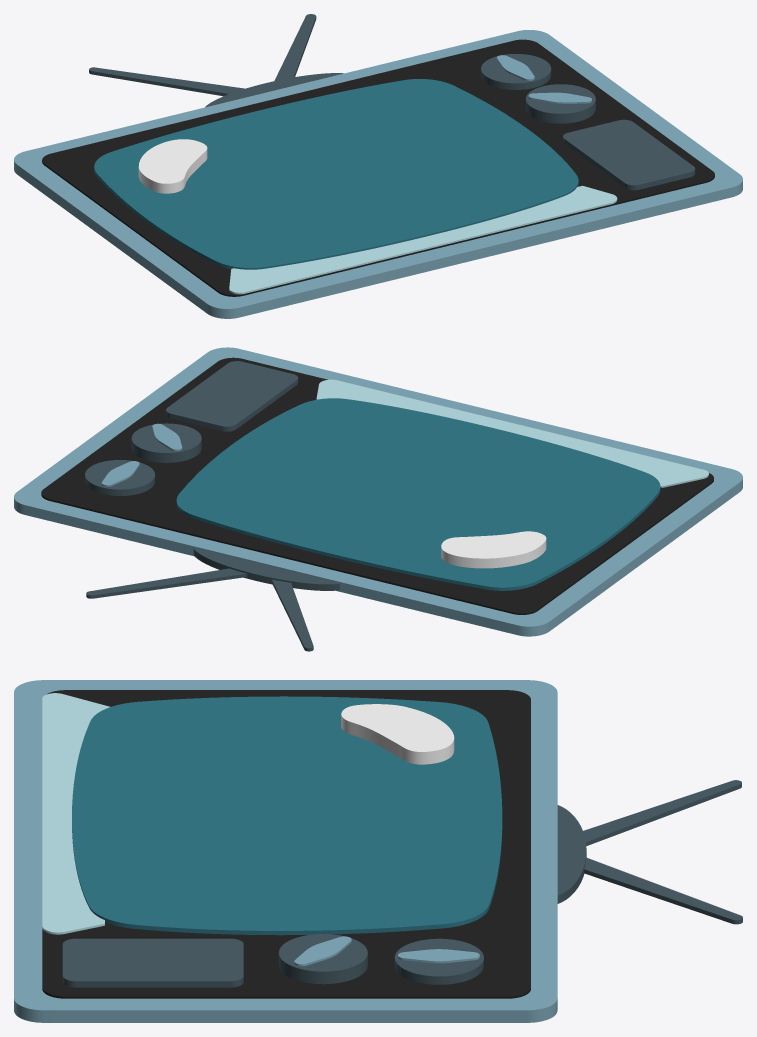
The model's file is emoji_u1f4fa.glb.
3 views of the same model, one above another, from view 1: azimuth 30°, elevation 25°; view 2: azimuth 150°, elevation 25°; view 3: azimuth 270°, elevation 25° (orthographic). The views are drawn at different scales.
Visible parts, largest first — view 1: emoji_u1f4fa; view 2: emoji_u1f4fa; view 3: emoji_u1f4fa.
Part boxes in pixels (x1,y1,x2,y2): emoji_u1f4fa: (14, 14, 742, 318); emoji_u1f4fa: (14, 347, 742, 651); emoji_u1f4fa: (14, 680, 742, 1022).
Bounding box in the file's own units: 0.0338 × 0.0024 × 0.0315.
